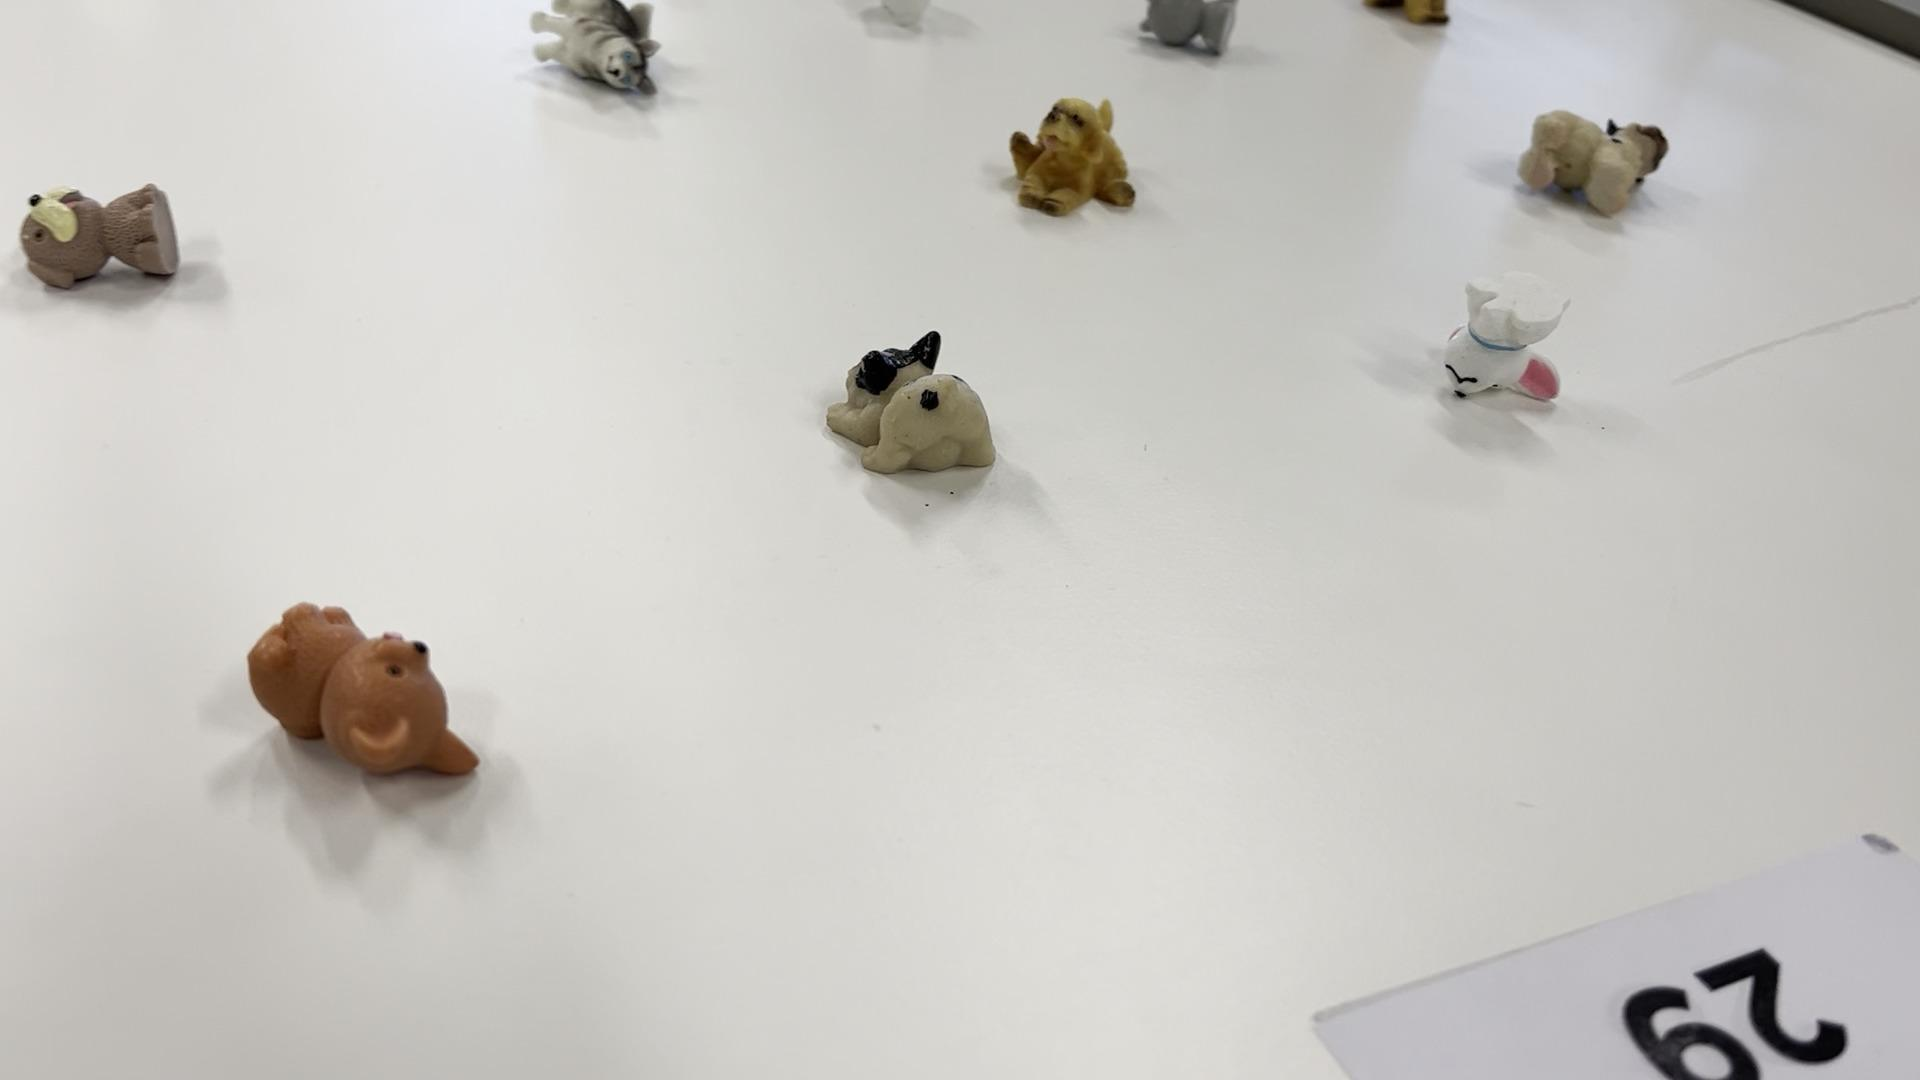pet: (235, 592, 496, 812), (824, 339, 1002, 501), (1507, 103, 1683, 228), (15, 175, 187, 302), (998, 88, 1147, 233), (1439, 269, 1568, 422), (510, 0, 691, 105), (1112, 0, 1251, 73)
